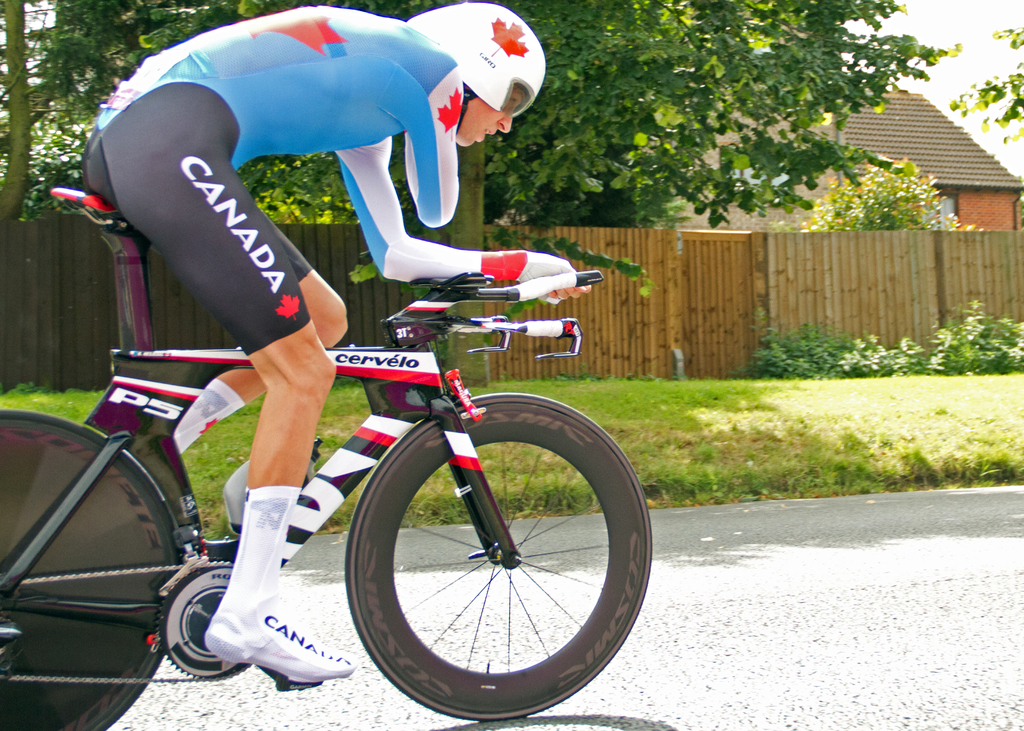Bike: (17, 181, 655, 715)
